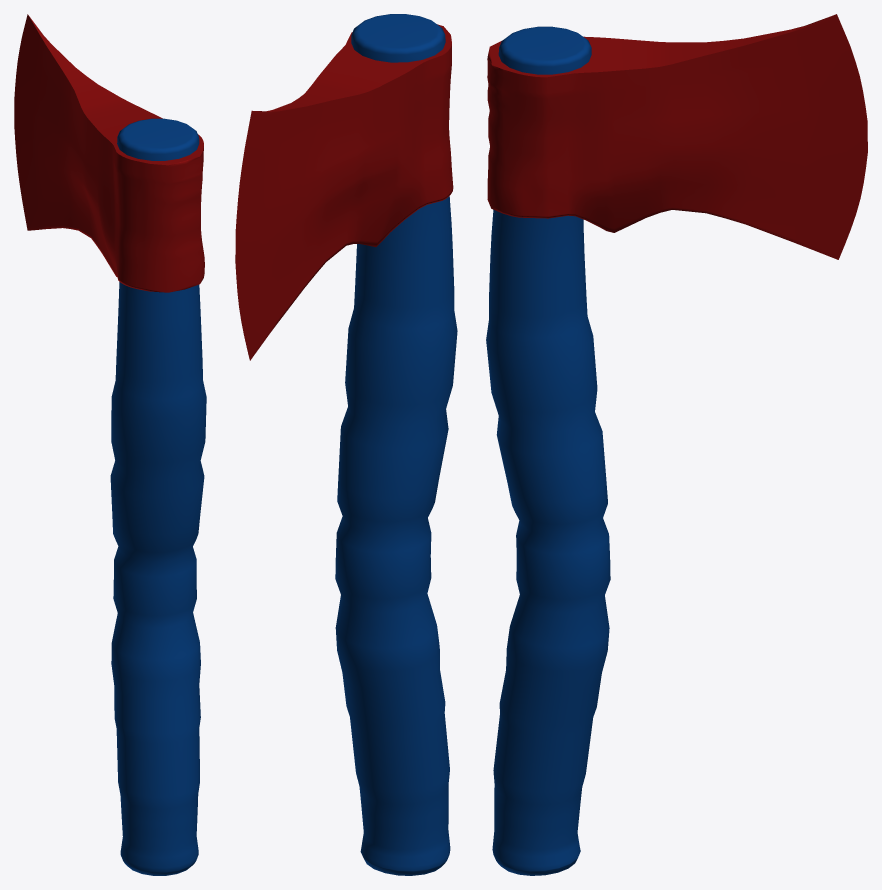
File: Axe.dae
3 renders of one model, left to right at view 1: azimuth 30°, elevation 25°; view 2: azimuth 150°, elevation 25°; view 3: azimuth 270°, elevation 25°, orthographic. The views are drawn at different scales.
Parts seen in each view (by area): view 1: g Pick_Axe:Pick_Handle, g Pick_Axe:polySurface3 AXE:Mesh; view 2: g Pick_Axe:Pick_Handle, g Pick_Axe:polySurface3 AXE:Mesh; view 3: g Pick_Axe:polySurface3 AXE:Mesh, g Pick_Axe:Pick_Handle.
Boxes of the visible parts, left/top/right/bottom form: g Pick_Axe:Pick_Handle: left=110, top=118, right=206, bottom=875; g Pick_Axe:polySurface3 AXE:Mesh: left=14, top=14, right=204, bottom=292; g Pick_Axe:Pick_Handle: left=335, top=14, right=457, bottom=875; g Pick_Axe:polySurface3 AXE:Mesh: left=235, top=24, right=453, bottom=360; g Pick_Axe:polySurface3 AXE:Mesh: left=487, top=14, right=867, bottom=259; g Pick_Axe:Pick_Handle: left=486, top=26, right=610, bottom=875.
Size of the model in its own units: 0.2334 by 2 by 0.8142.
